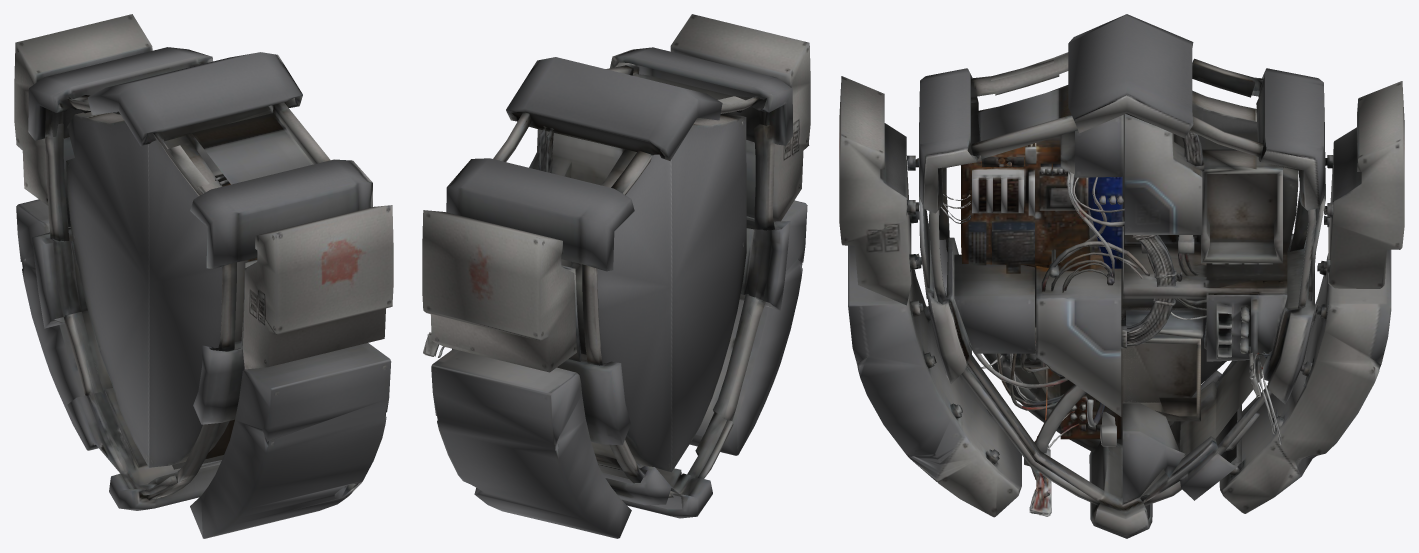
3 renders of one model, left to right at view 1: azimuth 30°, elevation 25°; view 2: azimuth 150°, elevation 25°; view 3: azimuth 270°, elevation 25°, orthographic. The views are drawn at different scales.
Parts seen in each view (by area): view 1: tripo_node_98b591fe-1867-4bd2-8833-9a0f7d852b75; view 2: tripo_node_98b591fe-1867-4bd2-8833-9a0f7d852b75; view 3: tripo_node_98b591fe-1867-4bd2-8833-9a0f7d852b75.
Part boxes in pixels (bbox=[...]): tripo_node_98b591fe-1867-4bd2-8833-9a0f7d852b75: bbox=[14, 14, 393, 538]; tripo_node_98b591fe-1867-4bd2-8833-9a0f7d852b75: bbox=[422, 14, 810, 538]; tripo_node_98b591fe-1867-4bd2-8833-9a0f7d852b75: bbox=[839, 14, 1404, 538].
Size of the model in its own units: 0.4551 by 0.8887 by 0.998.
Materials: 1 (1 with a texture image).
